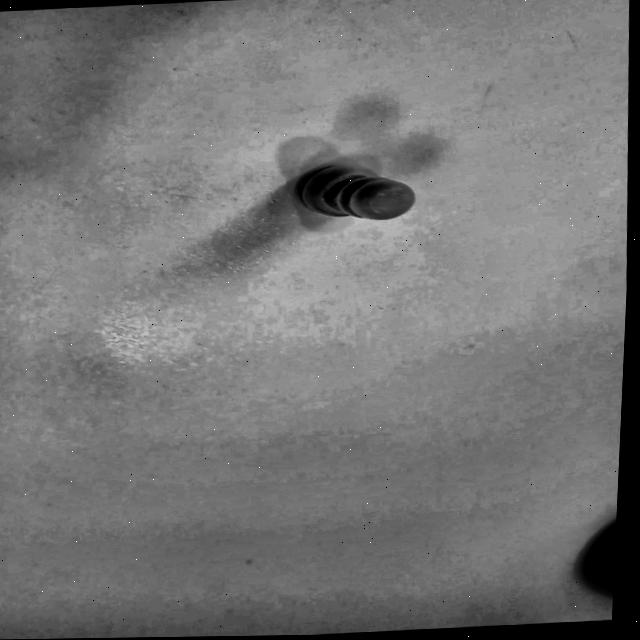white-pawn: (284, 149, 430, 226)
